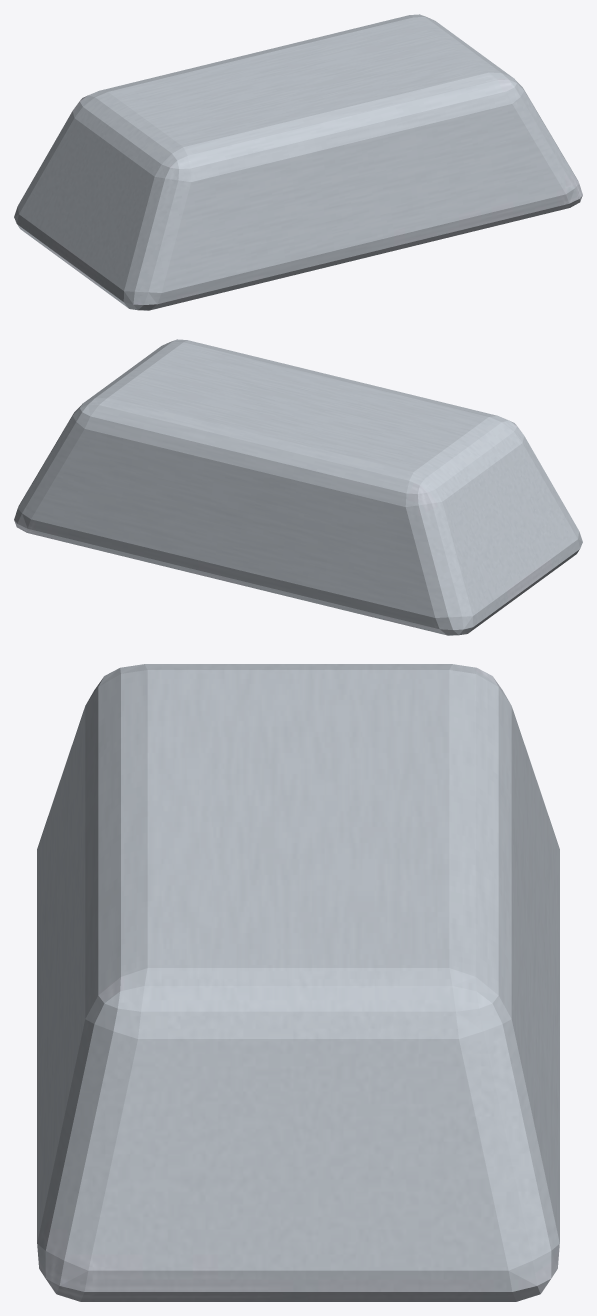
Rendered from res_iron_ingot.glb.
3 views of the same model, one above another, from view 1: azimuth 30°, elevation 25°; view 2: azimuth 150°, elevation 25°; view 3: azimuth 270°, elevation 25° (orthographic). The views are drawn at different scales.
Parts seen in each view (by area): view 1: res_iron_ingot; view 2: res_iron_ingot; view 3: res_iron_ingot.
Part boxes in pixels (bbox=[...]): res_iron_ingot: bbox=[14, 14, 582, 310]; res_iron_ingot: bbox=[14, 339, 582, 635]; res_iron_ingot: bbox=[37, 664, 559, 1301].
Bounding box in the file's own units: 0.3 × 0.085 × 0.1488.
Materials: 1 (1 with a texture image).
